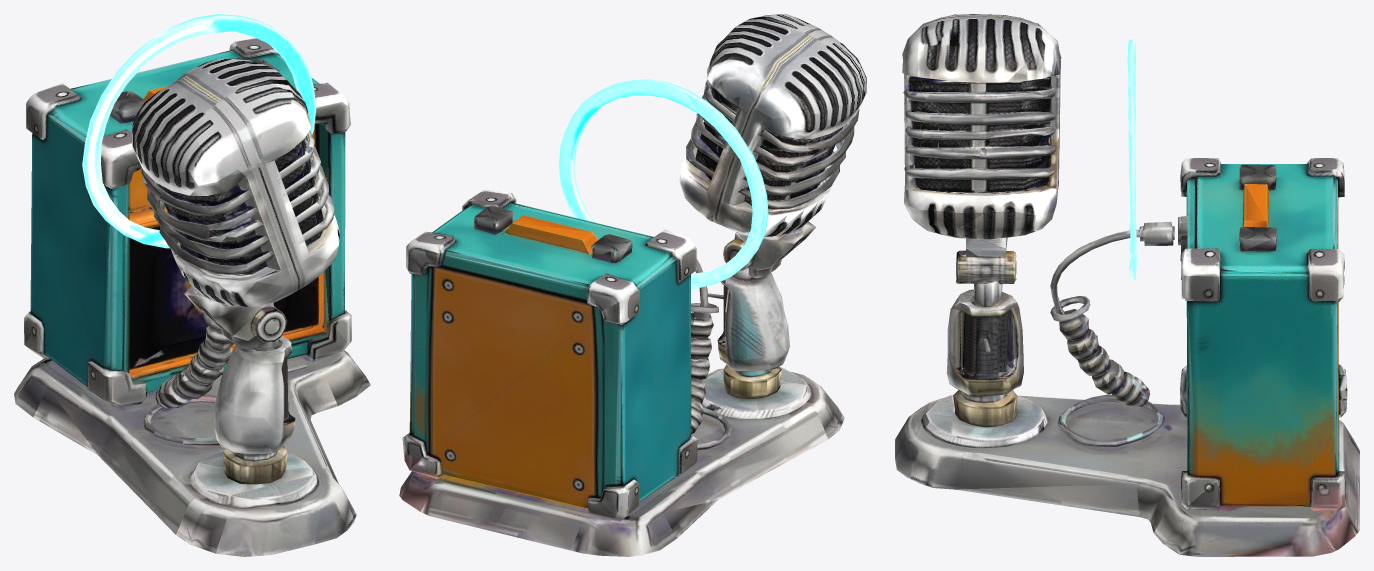
The model's file is feedback.glb.
The picture shows the model from 3 angles, left to right: view 1: azimuth 30°, elevation 25°; view 2: azimuth 150°, elevation 25°; view 3: azimuth 270°, elevation 25°; orthographic projection. The views are drawn at different scales.
Bounding box in the file's own units: 0.7812 × 1 × 1.
Materials: 1 (1 with a texture image).
